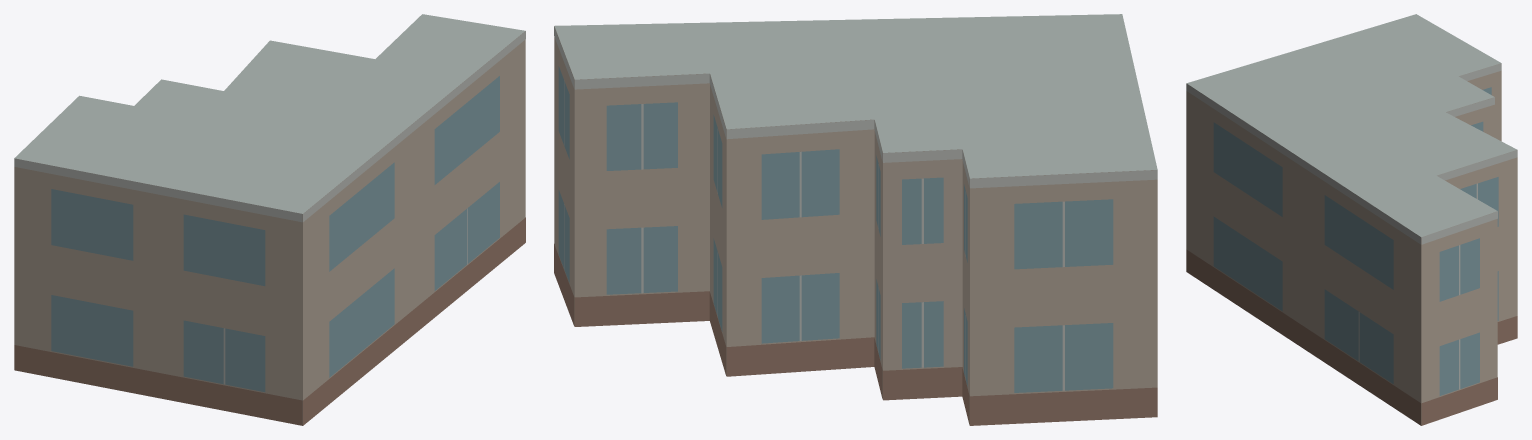
File: survey-upis-32823543.glb
3 views of the same model, side by side, from view 1: azimuth 30°, elevation 25°; view 2: azimuth 150°, elevation 25°; view 3: azimuth 270°, elevation 25° (orthographic). The views are drawn at different scales.
Visible parts, largest first — view 1: survey-upis-32823543.tmp; view 2: survey-upis-32823543.tmp; view 3: survey-upis-32823543.tmp.
Boxes of the visible parts, x1,y1,x2,y2 form: survey-upis-32823543.tmp: (14,14,525,425); survey-upis-32823543.tmp: (554,14,1157,425); survey-upis-32823543.tmp: (1186,14,1517,425).
Size of the model in its own units: 15.5 by 6.1 by 9.72.
